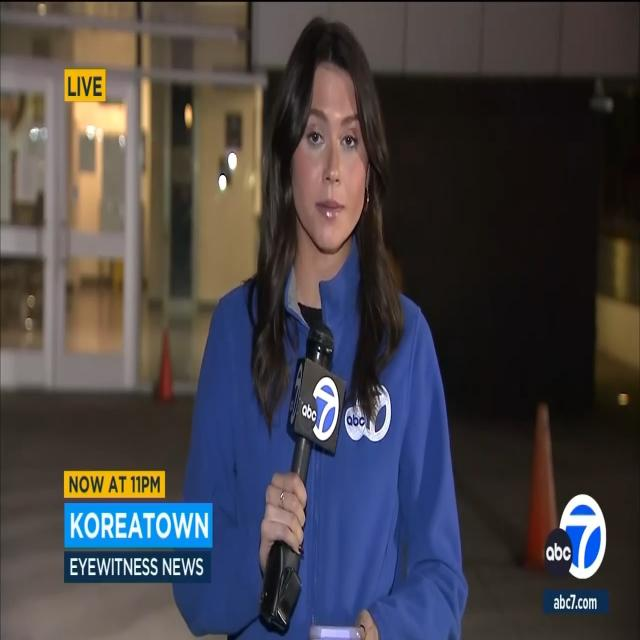microphone: (261, 317, 344, 636)
